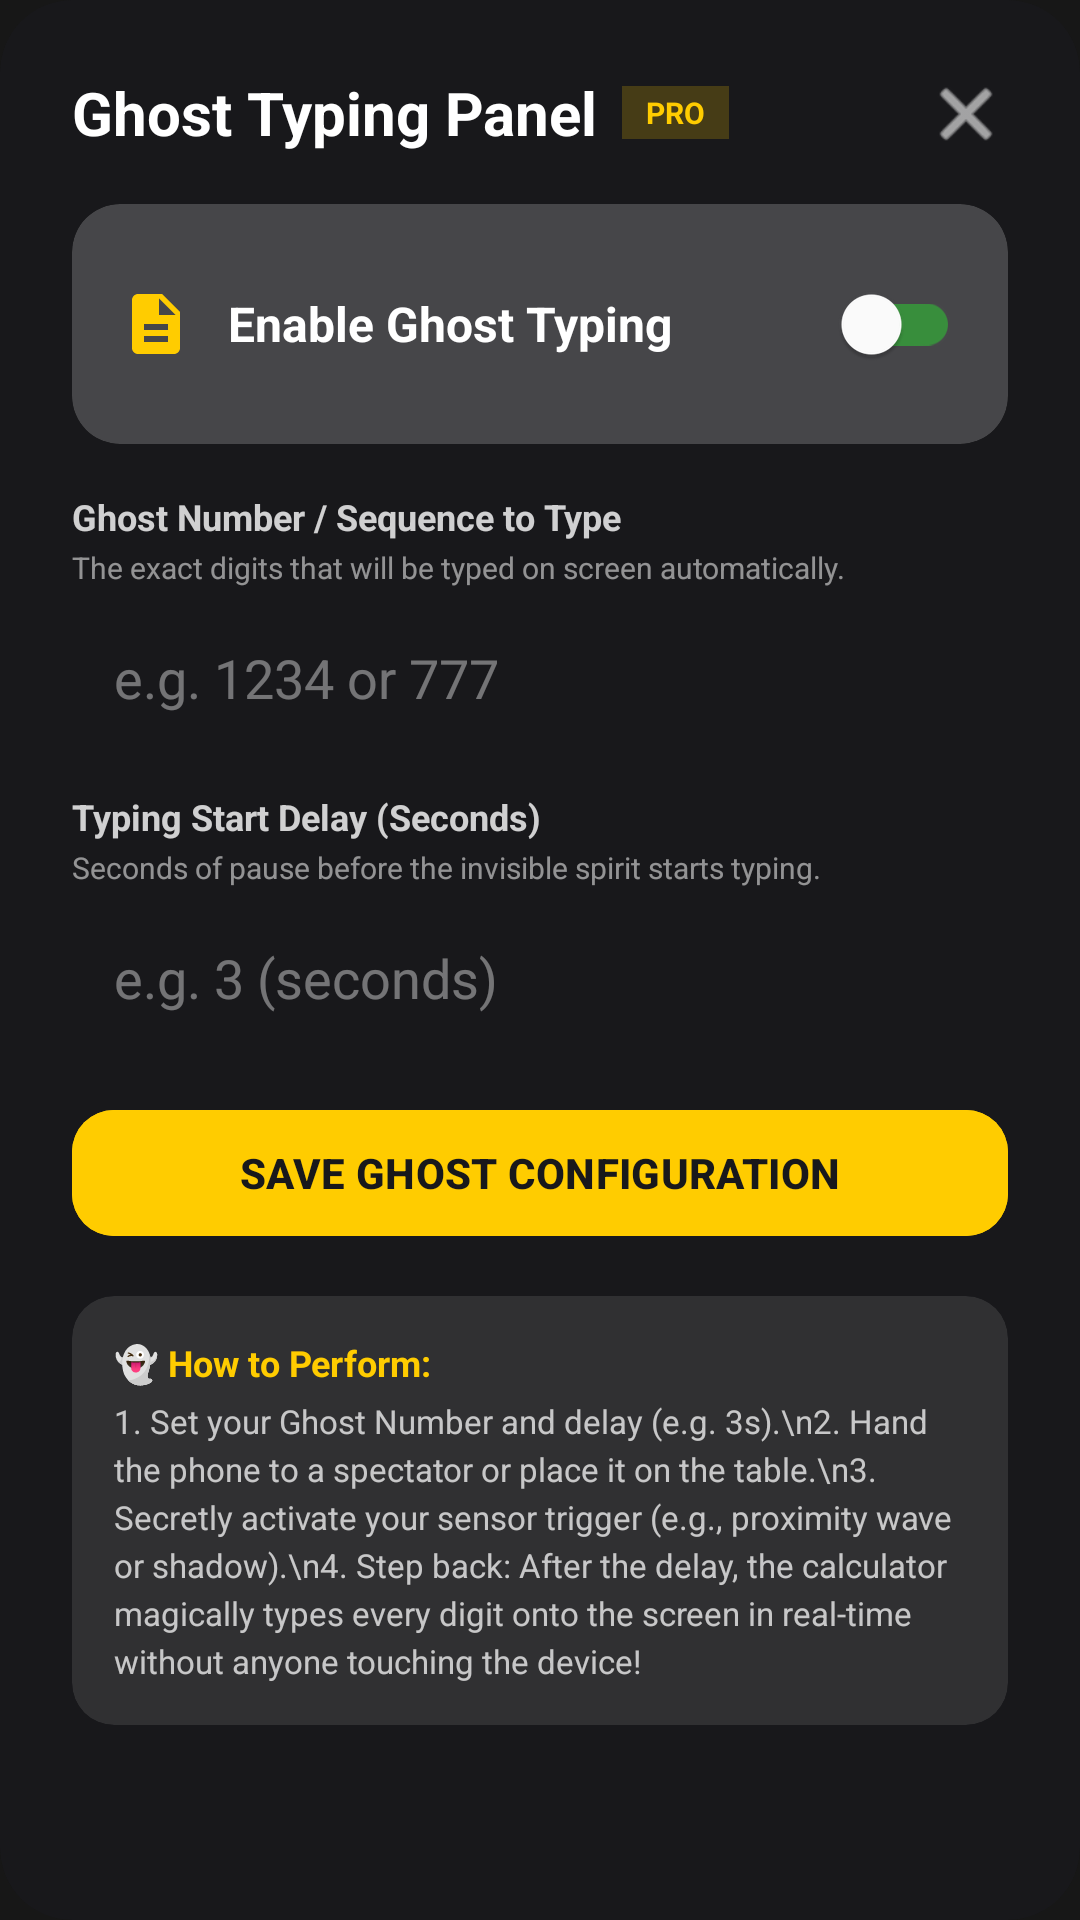

Named icons in this screenshot (1080*1920) and their bounding boxes, (x1=x1, y1=y1, x2=x2, y2=y2):
close clear cancel: (x1=940, y1=88, x2=992, y2=140)
notes: (x1=132, y1=294, x2=180, y2=354)
